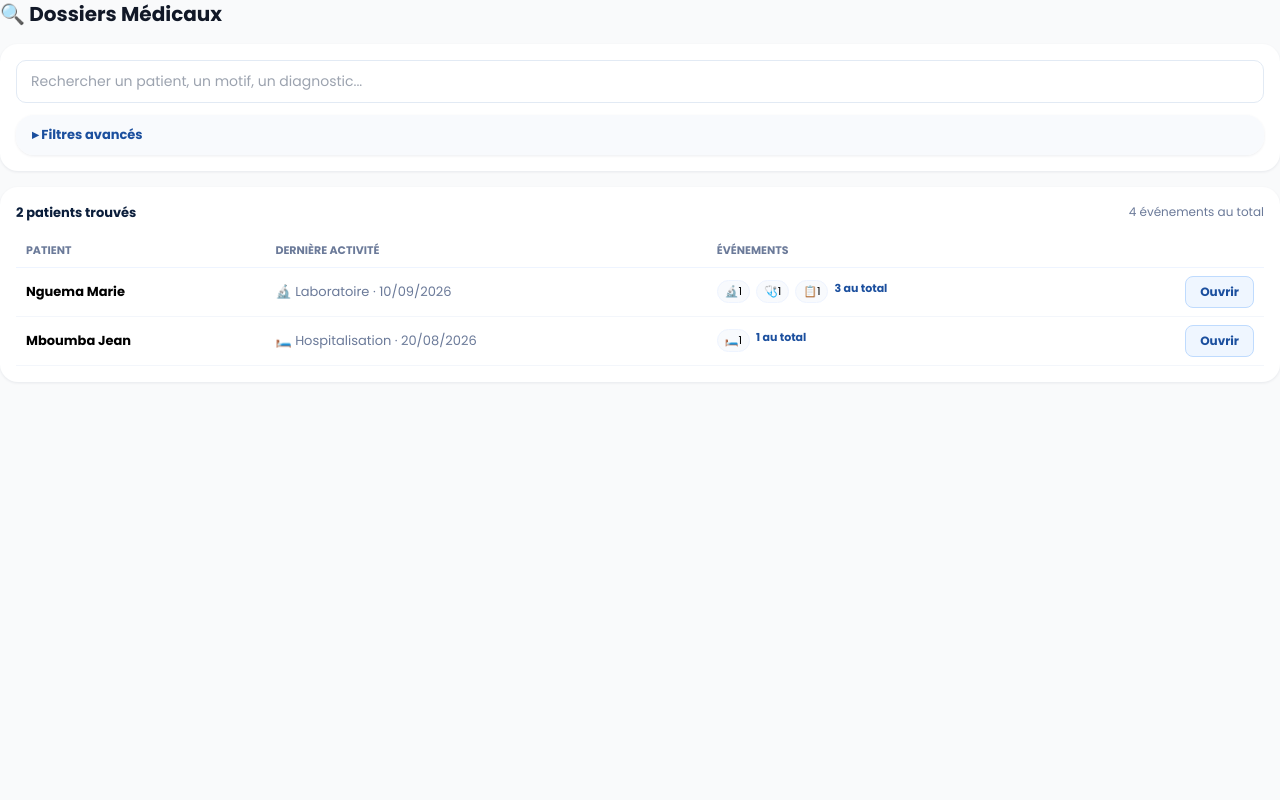
Test case: "Ouvrir" affiche une fiche unique avec les 3 événements regroupés en sections par type
The image size is (1280, 800).
Expected: the text "Nguema Marie" is shown, [16,267,265,316]
Click the button "Ouvrir" in the row of "Nguema Marie": {"x": 1220, "y": 292} [1185,276,1254,308]
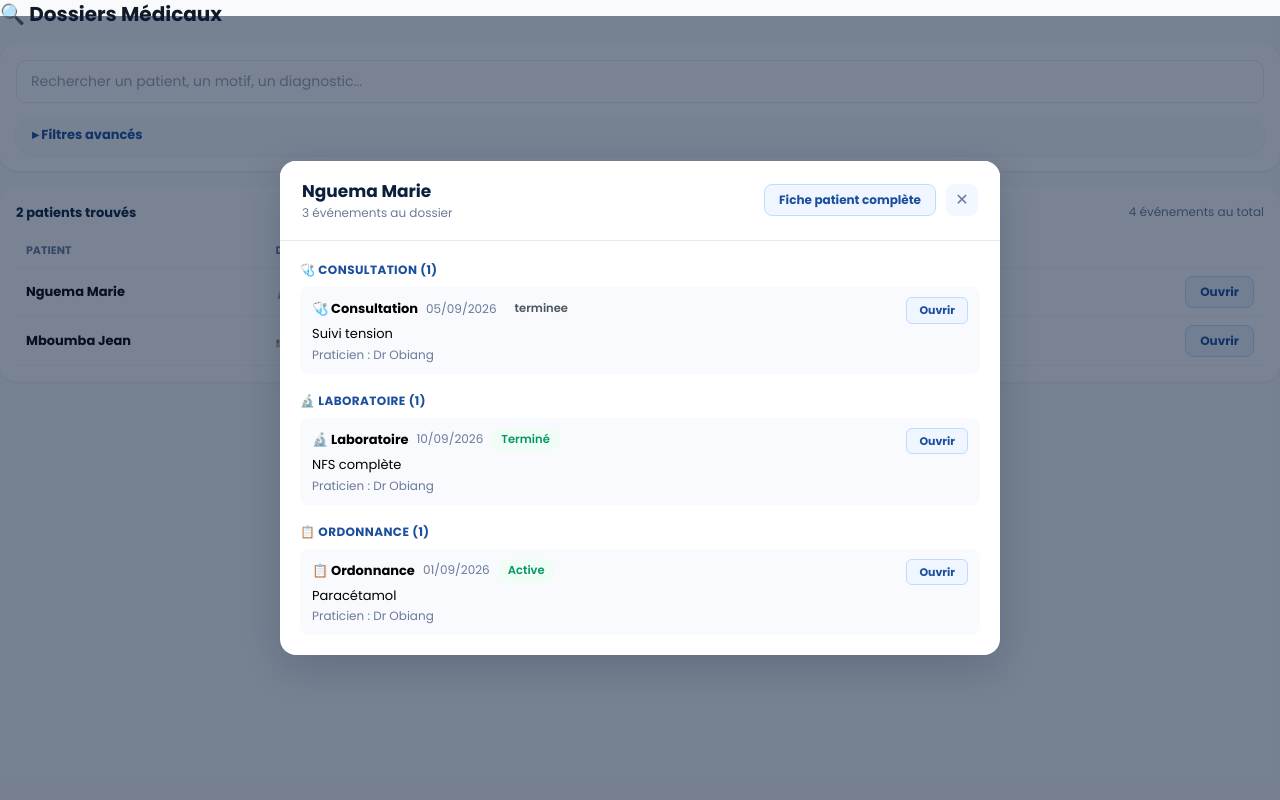
Expected: the text "3 événements au dossier" is shown, [302,204,452,222]
Expected: the text "NFS complète" is shown, [312,455,401,474]
Expected: the text "Suivi tension" is shown, [312,324,393,343]
